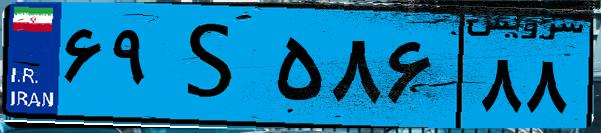5: (270, 28, 330, 110)
6: (385, 28, 445, 110), (57, 26, 110, 100)
8: (330, 28, 385, 110), (475, 38, 525, 113), (525, 38, 570, 115)
9: (110, 28, 158, 98)
S: (158, 12, 270, 120)
